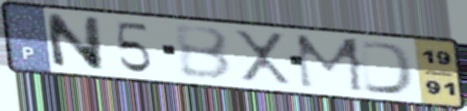5: (112, 19, 155, 74)
B: (170, 24, 236, 83)
D: (356, 38, 419, 97)
M: (292, 32, 369, 95)
N: (42, 11, 107, 73)
X: (230, 28, 296, 87)
